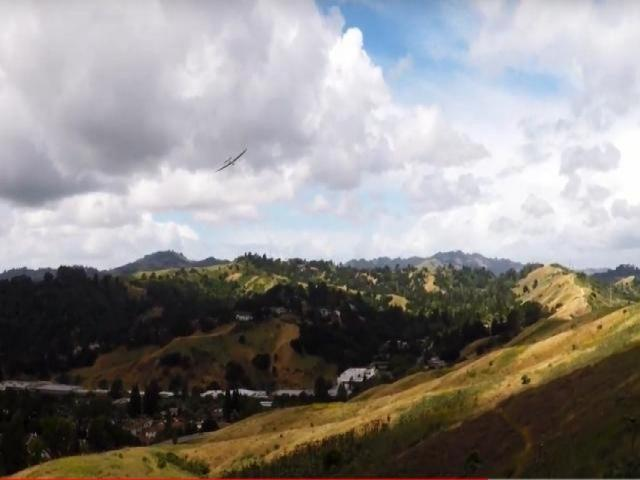iha: (218, 150, 247, 174)
